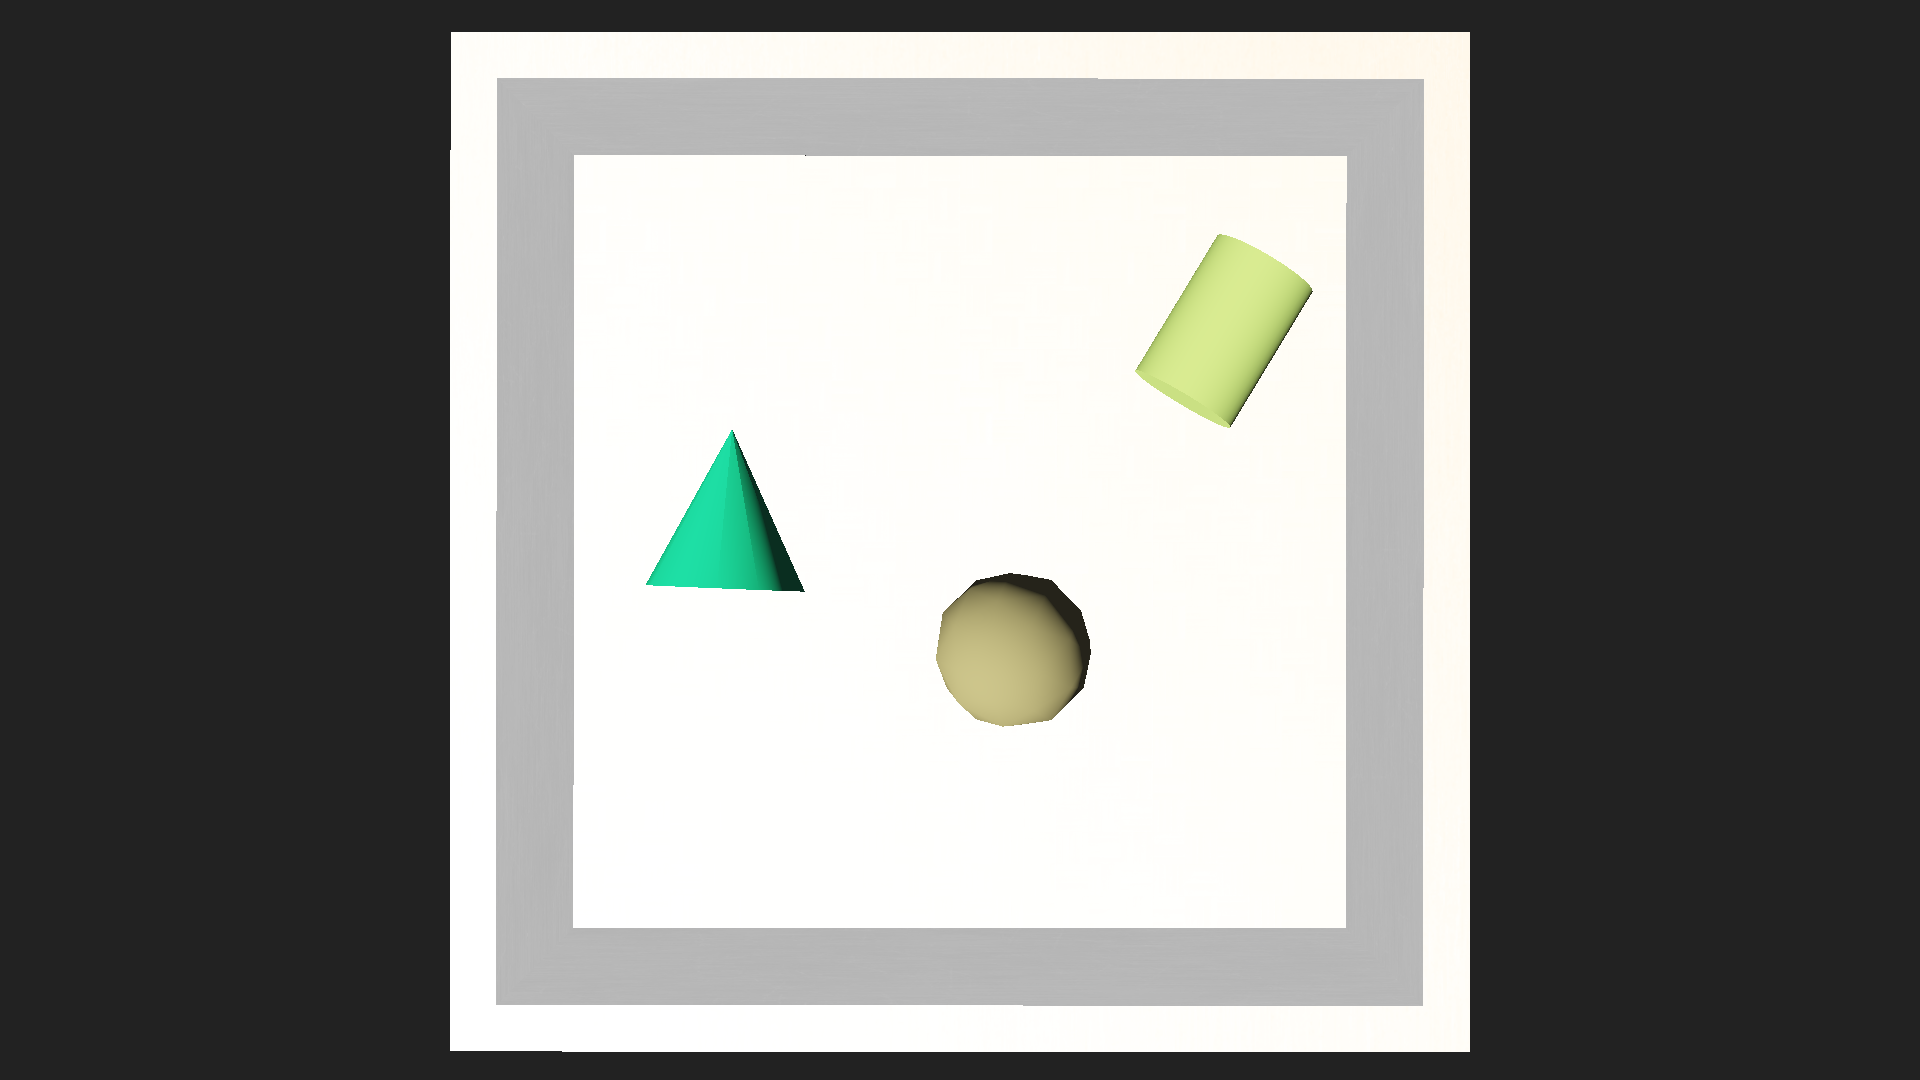cone: (1130, 228, 1320, 430)
cylinder: (644, 421, 808, 593)
sphere: (934, 568, 1092, 729)
